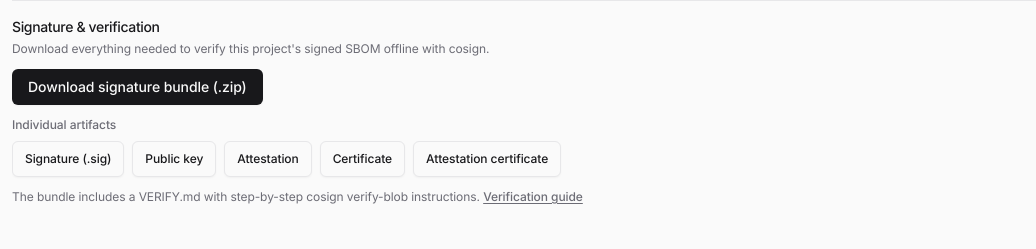
Scenario: SbomSignatureSection › shows the 'not applicable' hint when a certificate 404s on key-based signing
The width and height of the screenshot is (1036, 249).
Click the button with test id "sbom-signature-download-certificate". click: [362, 159]
box: x1=320 y1=141 x2=405 y2=177
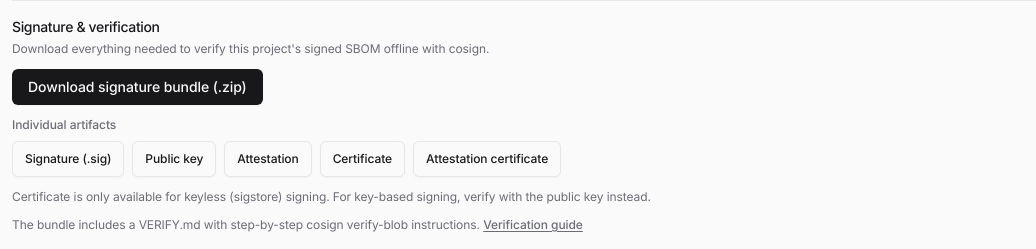
Check: the text with test id "sbom-signature-not-applicable" is shown, box x1=12 y1=189 x2=651 y2=204
